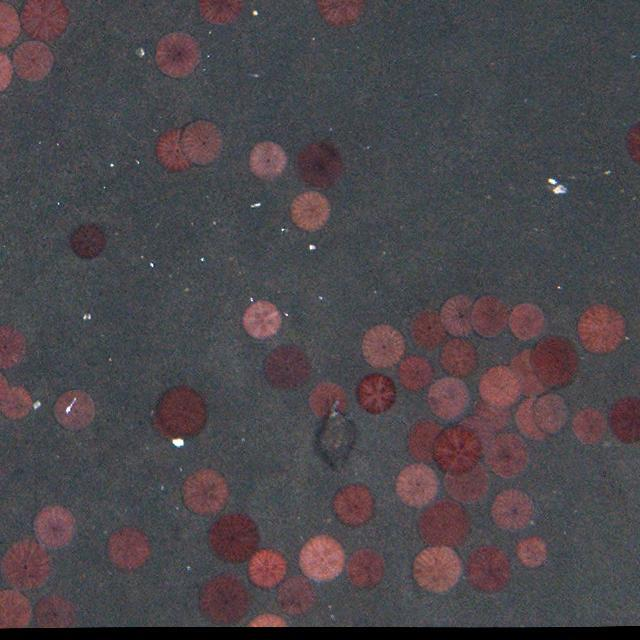whelk: (316, 400, 358, 470)
